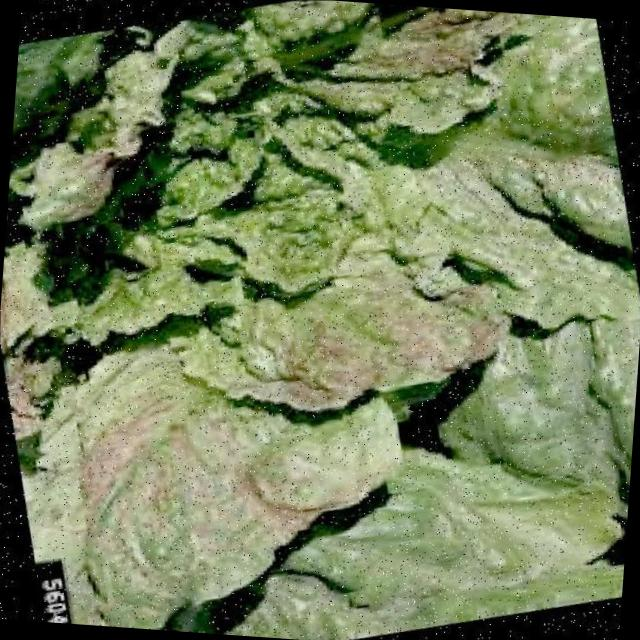Powdery_Mildew: (108, 0, 640, 436), (37, 386, 303, 628)
